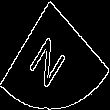N_NE: (32, 23, 78, 87)
